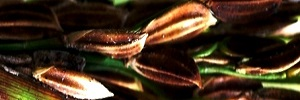RiceSheathBrownRot: (2, 6, 212, 98)
